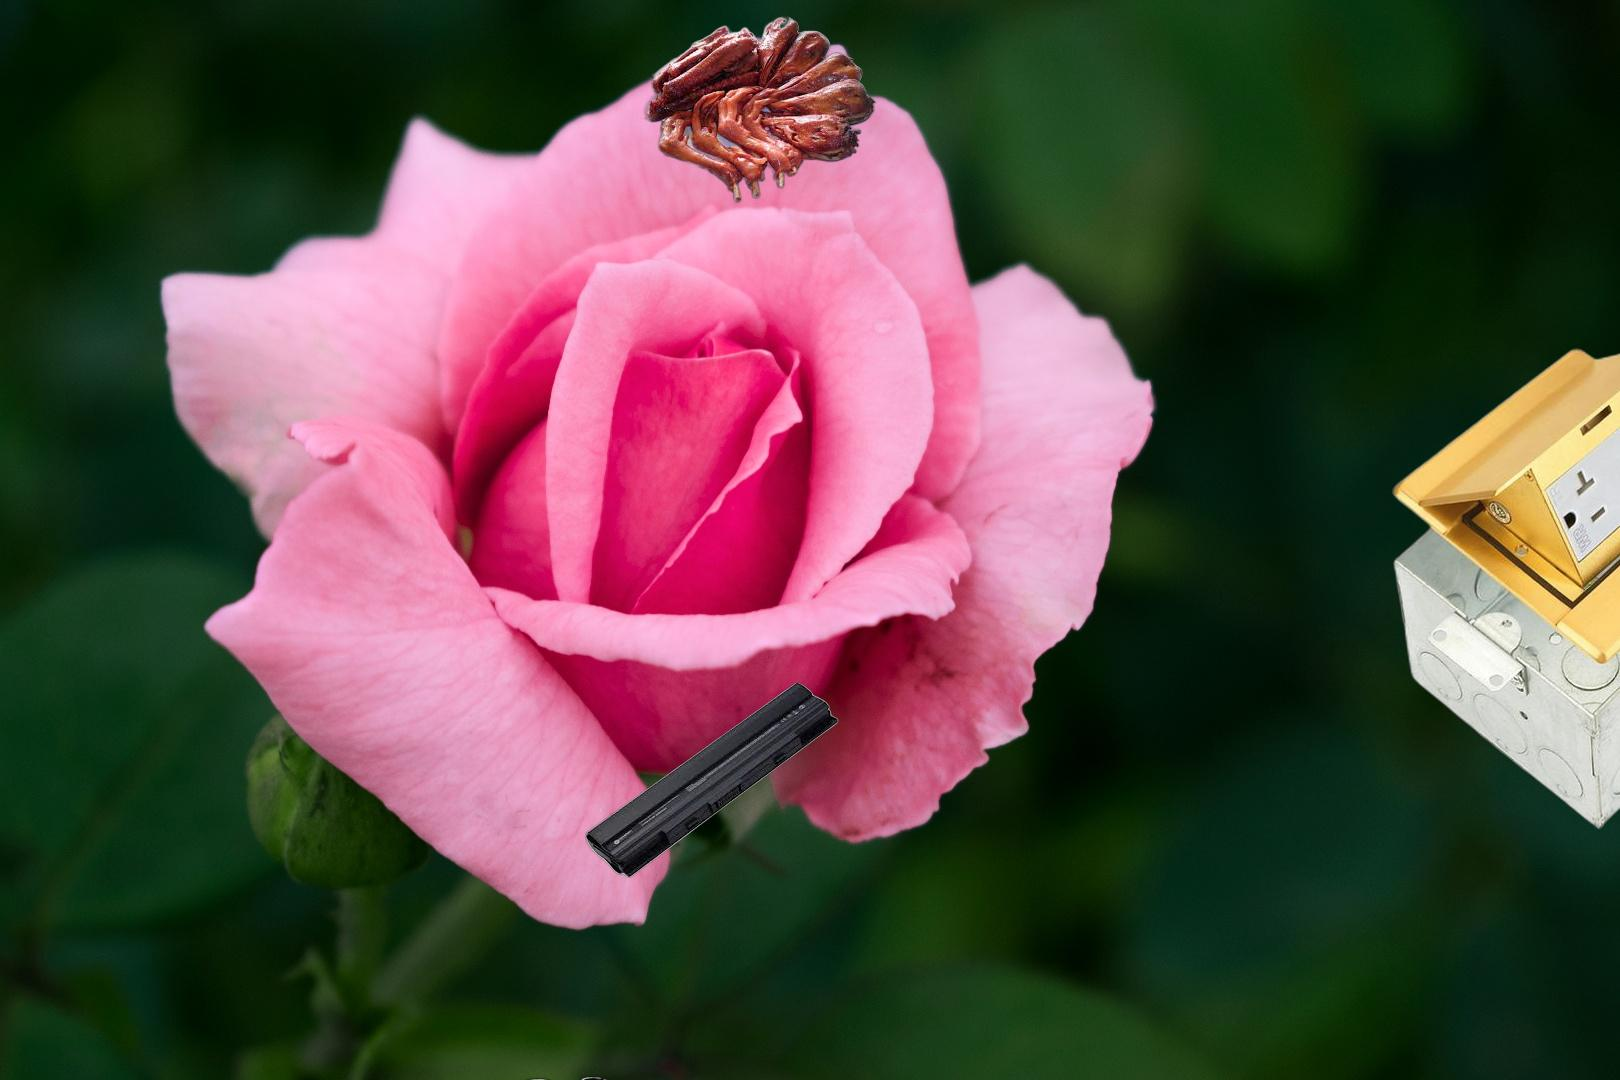battery: (585, 681, 839, 879)
biological: (639, 16, 879, 205)
shoes: (388, 1058, 641, 1080)
trashbox-cardboard: (1386, 333, 1620, 834)
